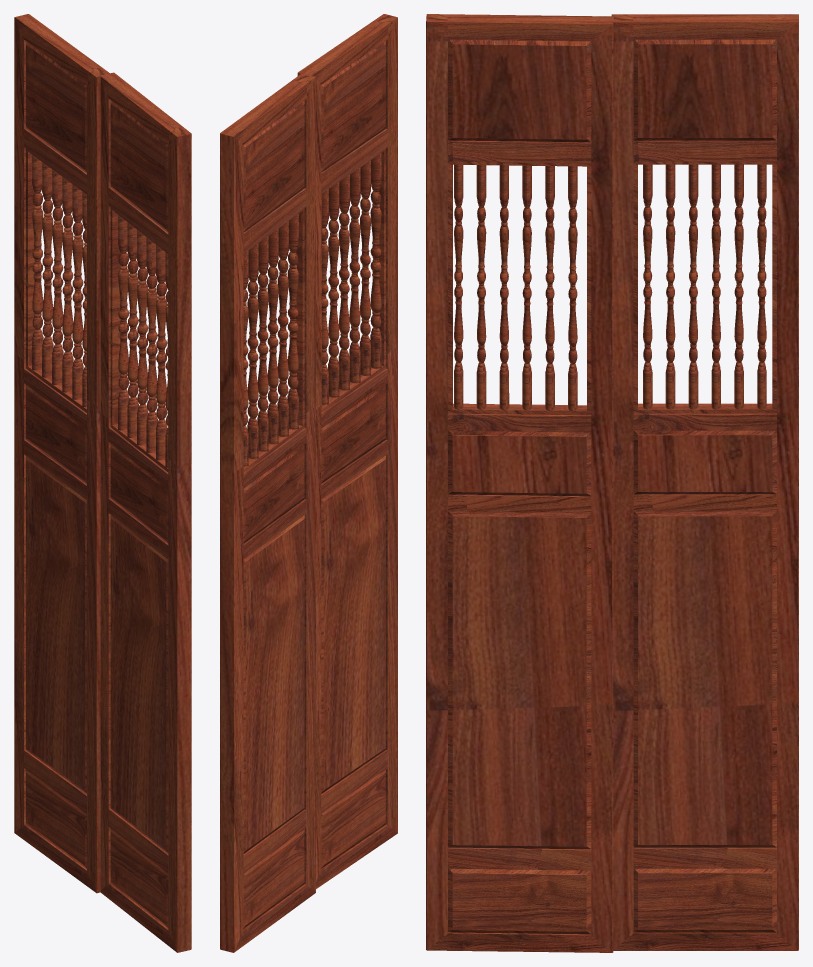
File: door.fbx
3 renders of one model, left to right at view 1: azimuth 30°, elevation 25°; view 2: azimuth 150°, elevation 25°; view 3: azimuth 270°, elevation 25°, orthographic. The views are drawn at different scales.
Parts seen in each view (by area): view 1: _C-sfghdfh#2 (Loose Mesh).001, _C-sfghdfh#2 (Loose Mesh), C-Group#45.017, C-Group#45.023; view 2: _C-sfghdfh#2 (Loose Mesh), _C-sfghdfh#2 (Loose Mesh).001, C-Group#45.023, C-Group#45.017; view 3: _C-sfghdfh#2 (Loose Mesh).001, _C-sfghdfh#2 (Loose Mesh), C-Group#45.017, C-Group#45.023.
Part boxes in pixels (<box>): _C-sfghdfh#2 (Loose Mesh).001: <box>100,72,191,952</box>; _C-sfghdfh#2 (Loose Mesh): <box>14,14,109,893</box>; C-Group#45.017: <box>32,154,86,407</box>; C-Group#45.023: <box>118,215,168,467</box>; _C-sfghdfh#2 (Loose Mesh): <box>220,74,315,952</box>; _C-sfghdfh#2 (Loose Mesh).001: <box>297,14,397,888</box>; C-Group#45.023: <box>322,153,381,404</box>; C-Group#45.017: <box>243,214,298,466</box>; _C-sfghdfh#2 (Loose Mesh).001: <box>426,14,613,952</box>; _C-sfghdfh#2 (Loose Mesh): <box>611,14,798,950</box>; C-Group#45.017: <box>643,164,766,409</box>; C-Group#45.023: <box>454,164,577,410</box>.
Bounding box in the file's own units: 5.36 × 219 × 79.61.
Materials: 3 (2 with a texture image).
